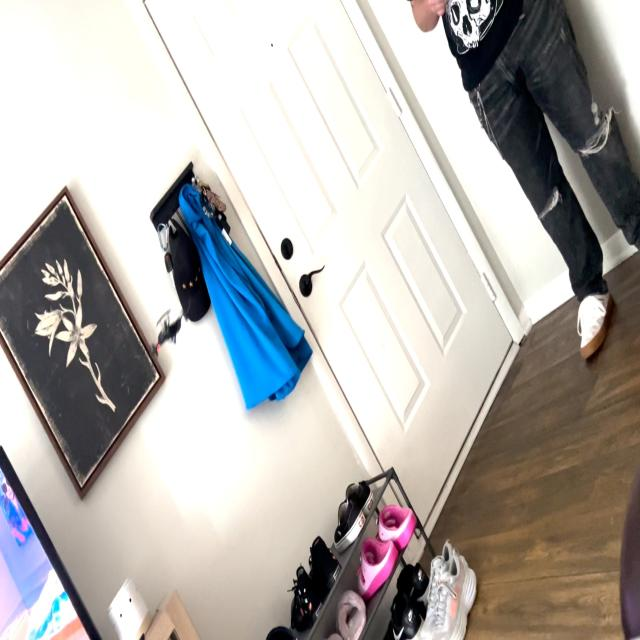drone: (128, 279, 207, 368)
